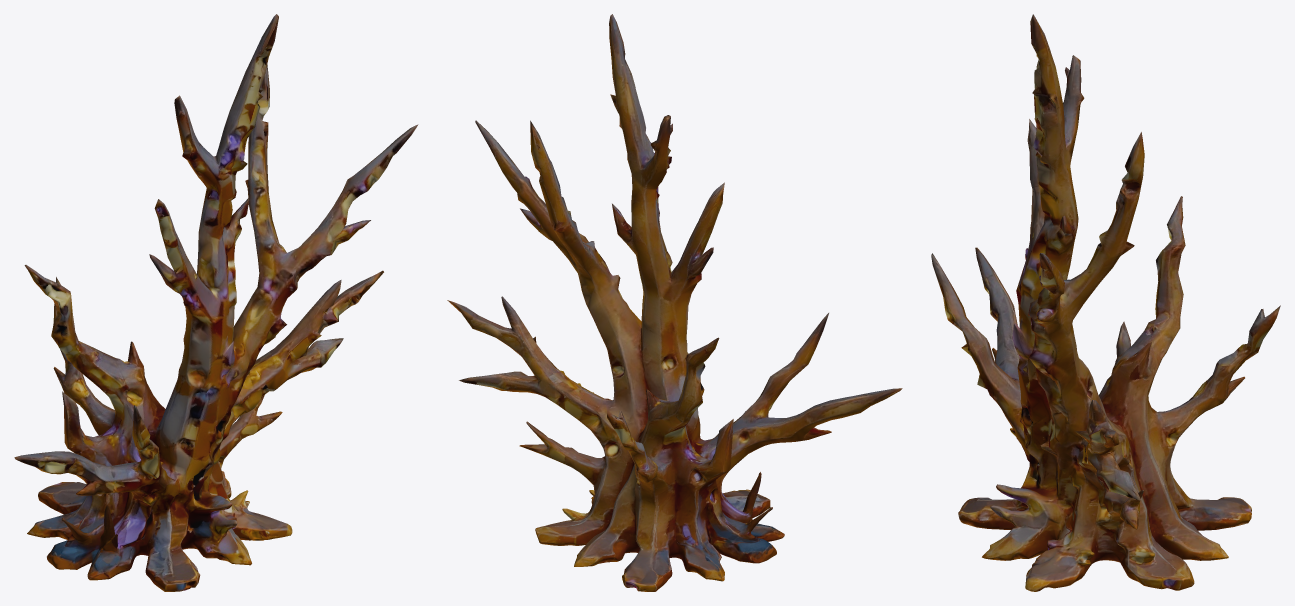
File: amber_crystal_coral.glb
The picture shows the model from 3 angles, left to right: view 1: azimuth 30°, elevation 25°; view 2: azimuth 150°, elevation 25°; view 3: azimuth 270°, elevation 25°; orthographic projection. The views are drawn at different scales.
Parts seen in each view (by area): view 1: tripo_node_52988dd5-9096-45cf-9a59-d54c6cad5aa9; view 2: tripo_node_52988dd5-9096-45cf-9a59-d54c6cad5aa9; view 3: tripo_node_52988dd5-9096-45cf-9a59-d54c6cad5aa9.
Boxes of the visible parts, left/top/right/bottom form: tripo_node_52988dd5-9096-45cf-9a59-d54c6cad5aa9: left=14, top=14, right=418, bottom=591; tripo_node_52988dd5-9096-45cf-9a59-d54c6cad5aa9: left=447, top=14, right=902, bottom=591; tripo_node_52988dd5-9096-45cf-9a59-d54c6cad5aa9: left=931, top=14, right=1280, bottom=591.
Size of the model in its own units: 0.8524 by 0.9847 by 0.546.
Materials: 1 (1 with a texture image).
